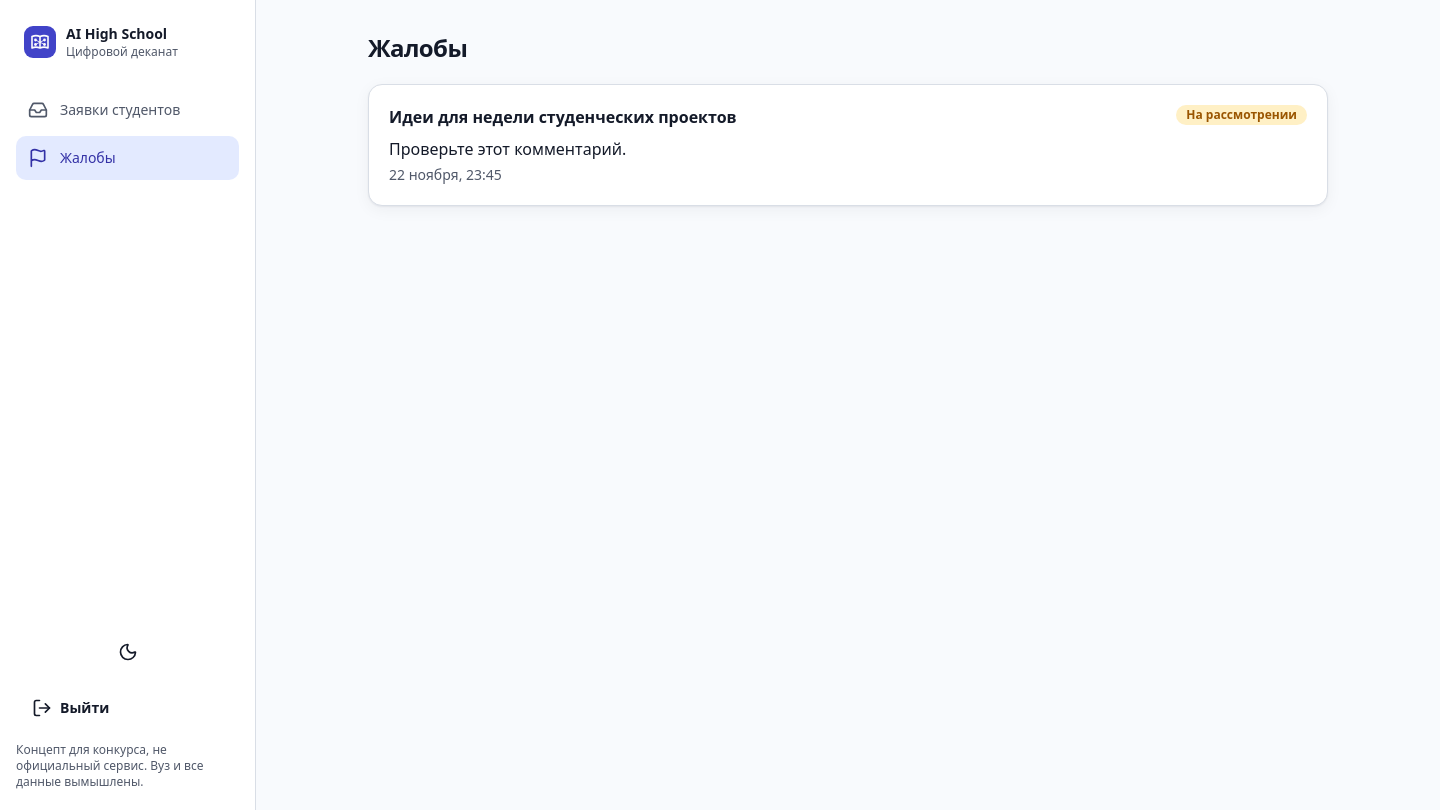
it: Отклонить жалобу обновляет карточку, очередь и студенческое обсуждение
Click the link "Проверьте этот комментарий" at {"x": 563, "y": 117}, box [369, 85, 1327, 205]
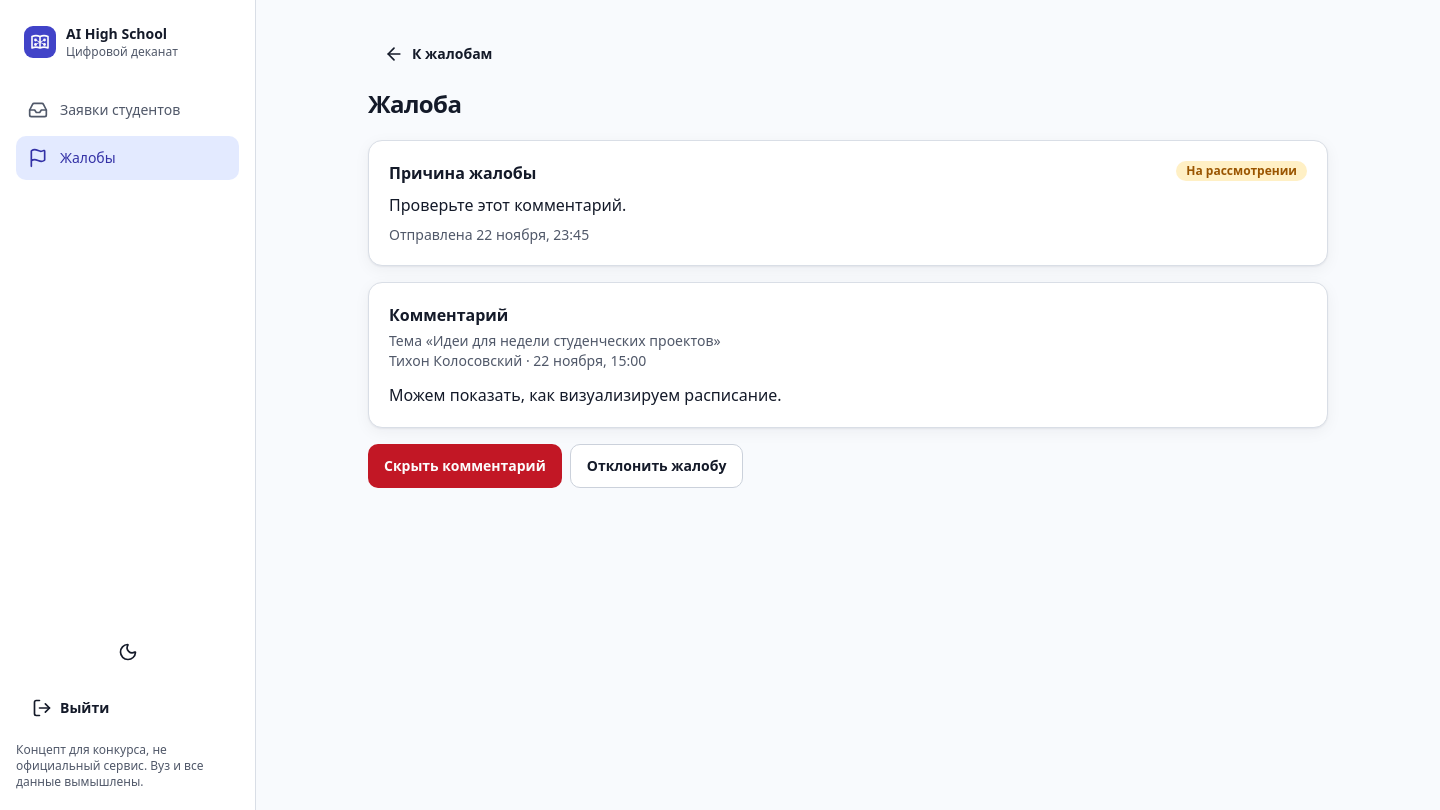
Expected: the text "Проверьте этот комментарий." is shown, [389, 194, 626, 216]
Expected: the text "Можем показать, как визуализируем расписание." is shown, [389, 384, 782, 406]
Click the button "Отклонить жалобу" at {"x": 657, "y": 466}, box [570, 444, 743, 488]
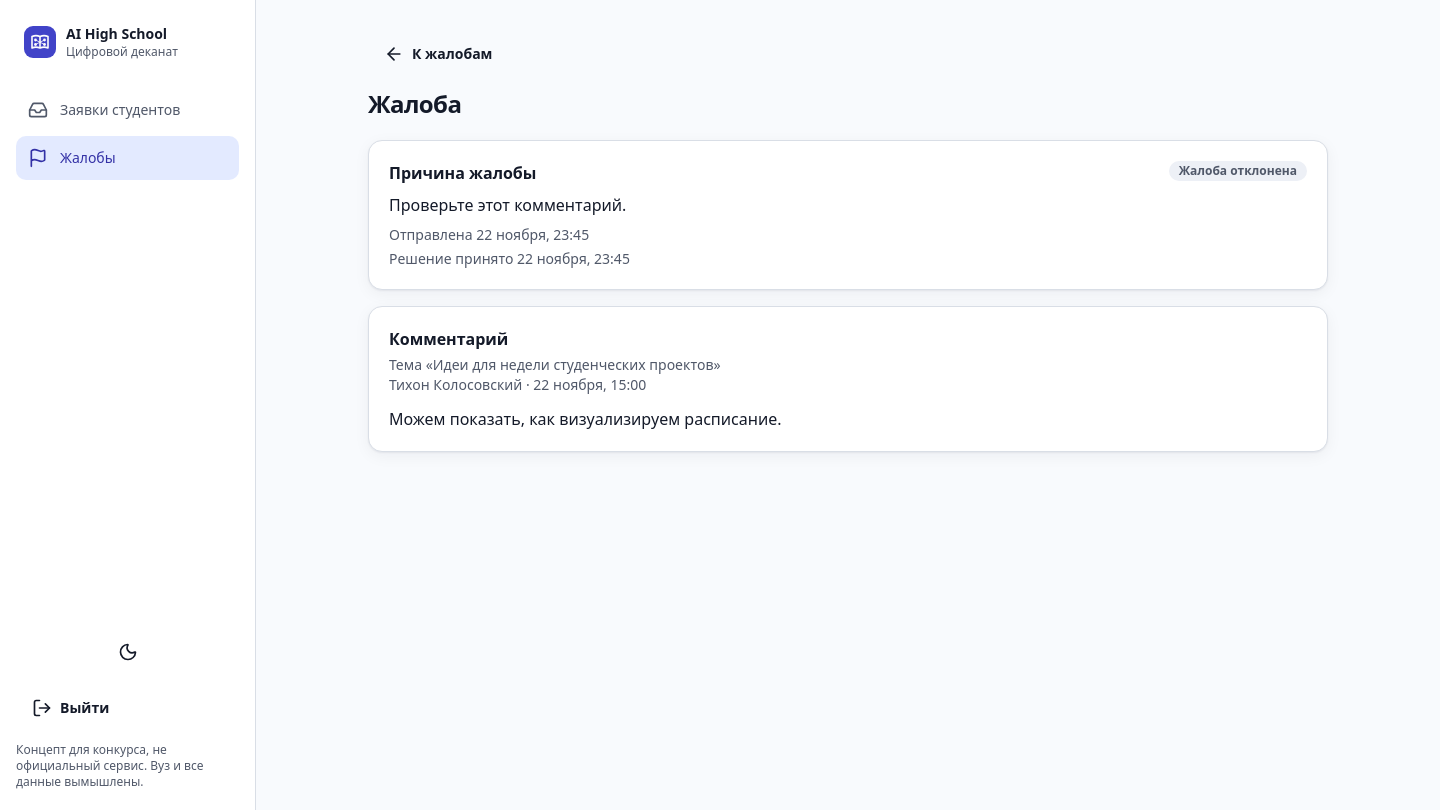
Expected: the text "Жалоба отклонена" is shown, [1169, 161, 1307, 181]
Expected: the button "Отклонить жалобу" is gone
Click the link "К жалобам" at {"x": 438, "y": 54}, box [384, 44, 492, 64]
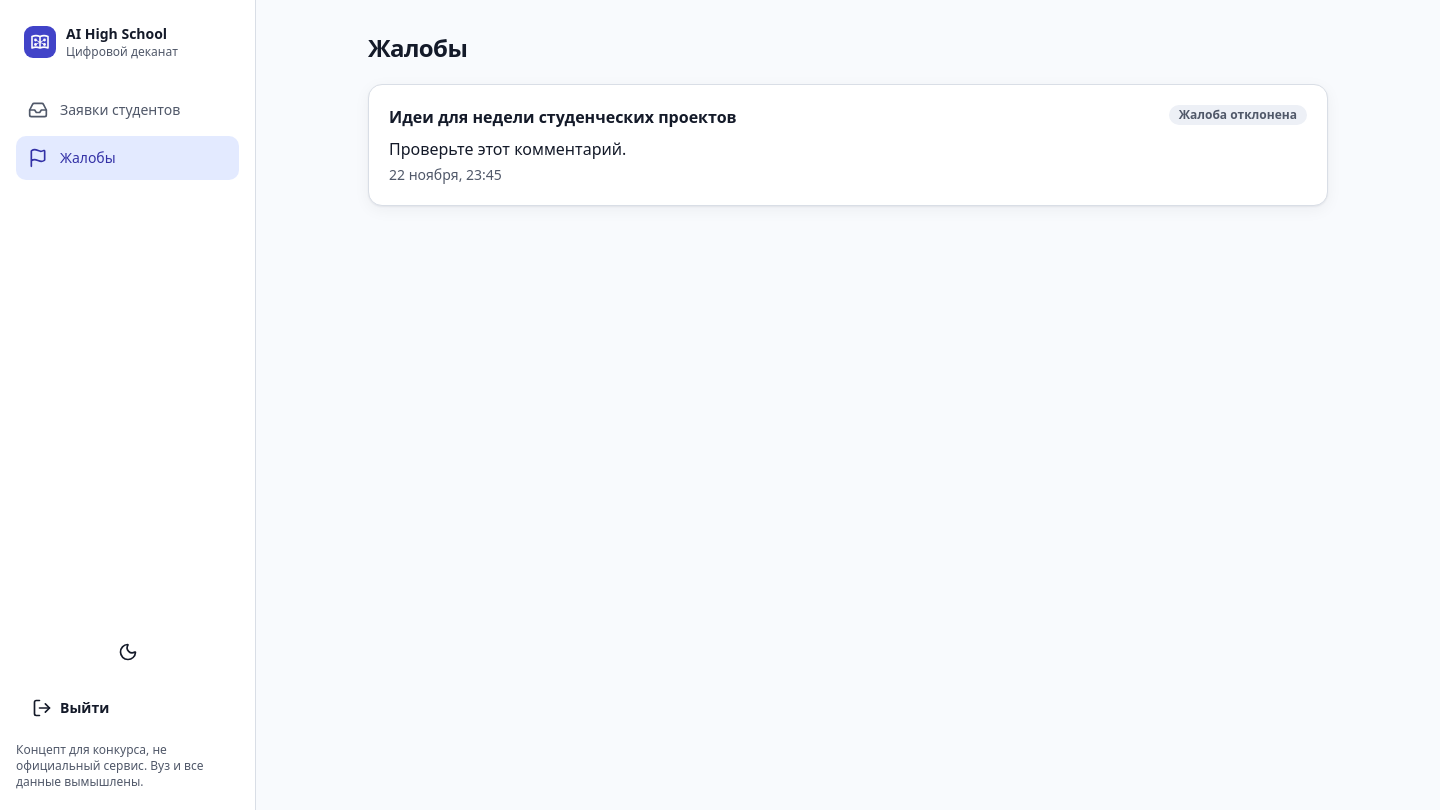
Expected: the link "Жалоба отклонена" is shown, [369, 85, 1327, 205]
